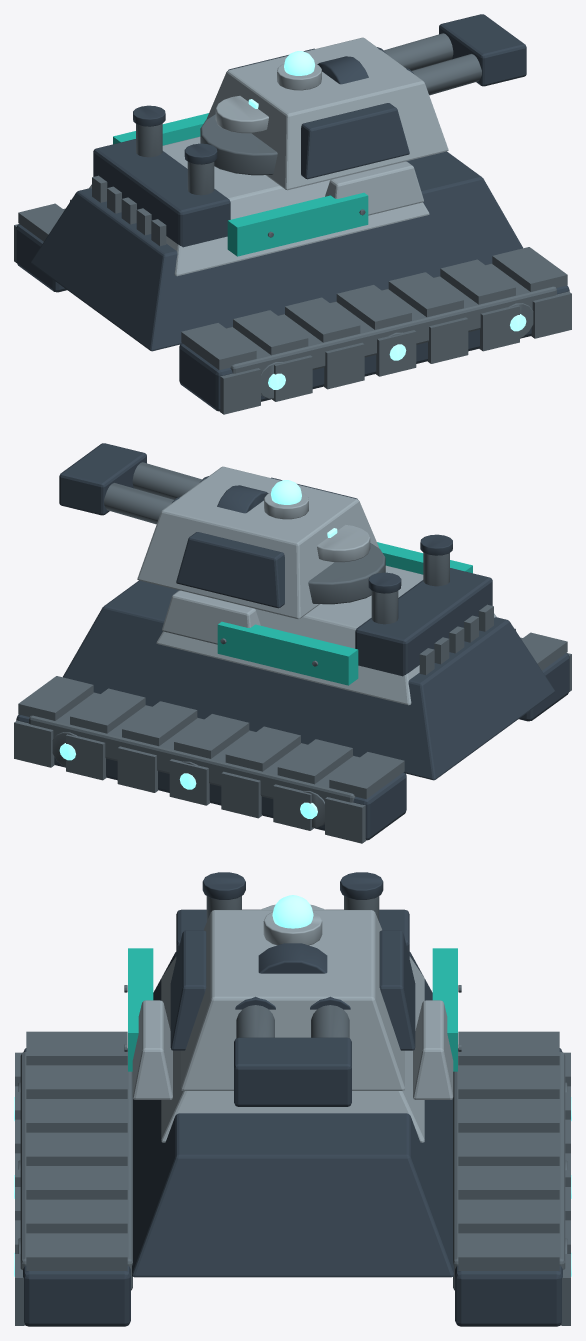
File: SM_Anvil.fbx
3 renders of one model, top to bottom at view 1: azimuth 30°, elevation 25°; view 2: azimuth 150°, elevation 25°; view 3: azimuth 270°, elevation 25°, orthographic. The views are drawn at different scales.
Visible parts, largest first — view 1: SM_Anvil; view 2: SM_Anvil; view 3: SM_Anvil.
Part boxes in pixels (box(x1,y1,x2,y2)): SM_Anvil: box(14, 14, 571, 414); SM_Anvil: box(14, 443, 571, 843); SM_Anvil: box(14, 872, 571, 1326).
Size of the model in its own units: 68 by 59.69 by 38.
